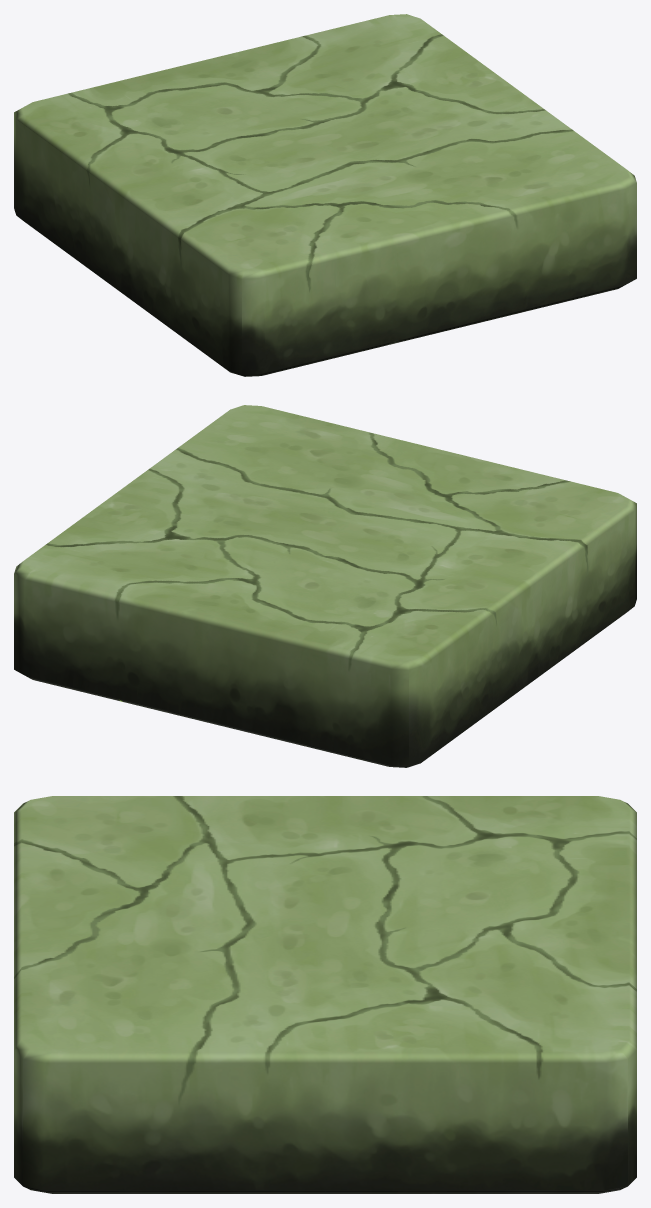
Rendered from panel_green.fbx.
3 renders of one model, top to bottom at view 1: azimuth 30°, elevation 25°; view 2: azimuth 150°, elevation 25°; view 3: azimuth 270°, elevation 25°, orthographic. The views are drawn at different scales.
Visible parts, largest first — view 1: Panel_green; view 2: Panel_green; view 3: Panel_green.
Boxes of the visible parts, x1,y1,x2,y2 form: Panel_green: [14, 14, 636, 376]; Panel_green: [14, 405, 636, 767]; Panel_green: [14, 796, 636, 1193].
Size of the model in its own units: 100 by 25 by 100.
1 material, 1 textured.
